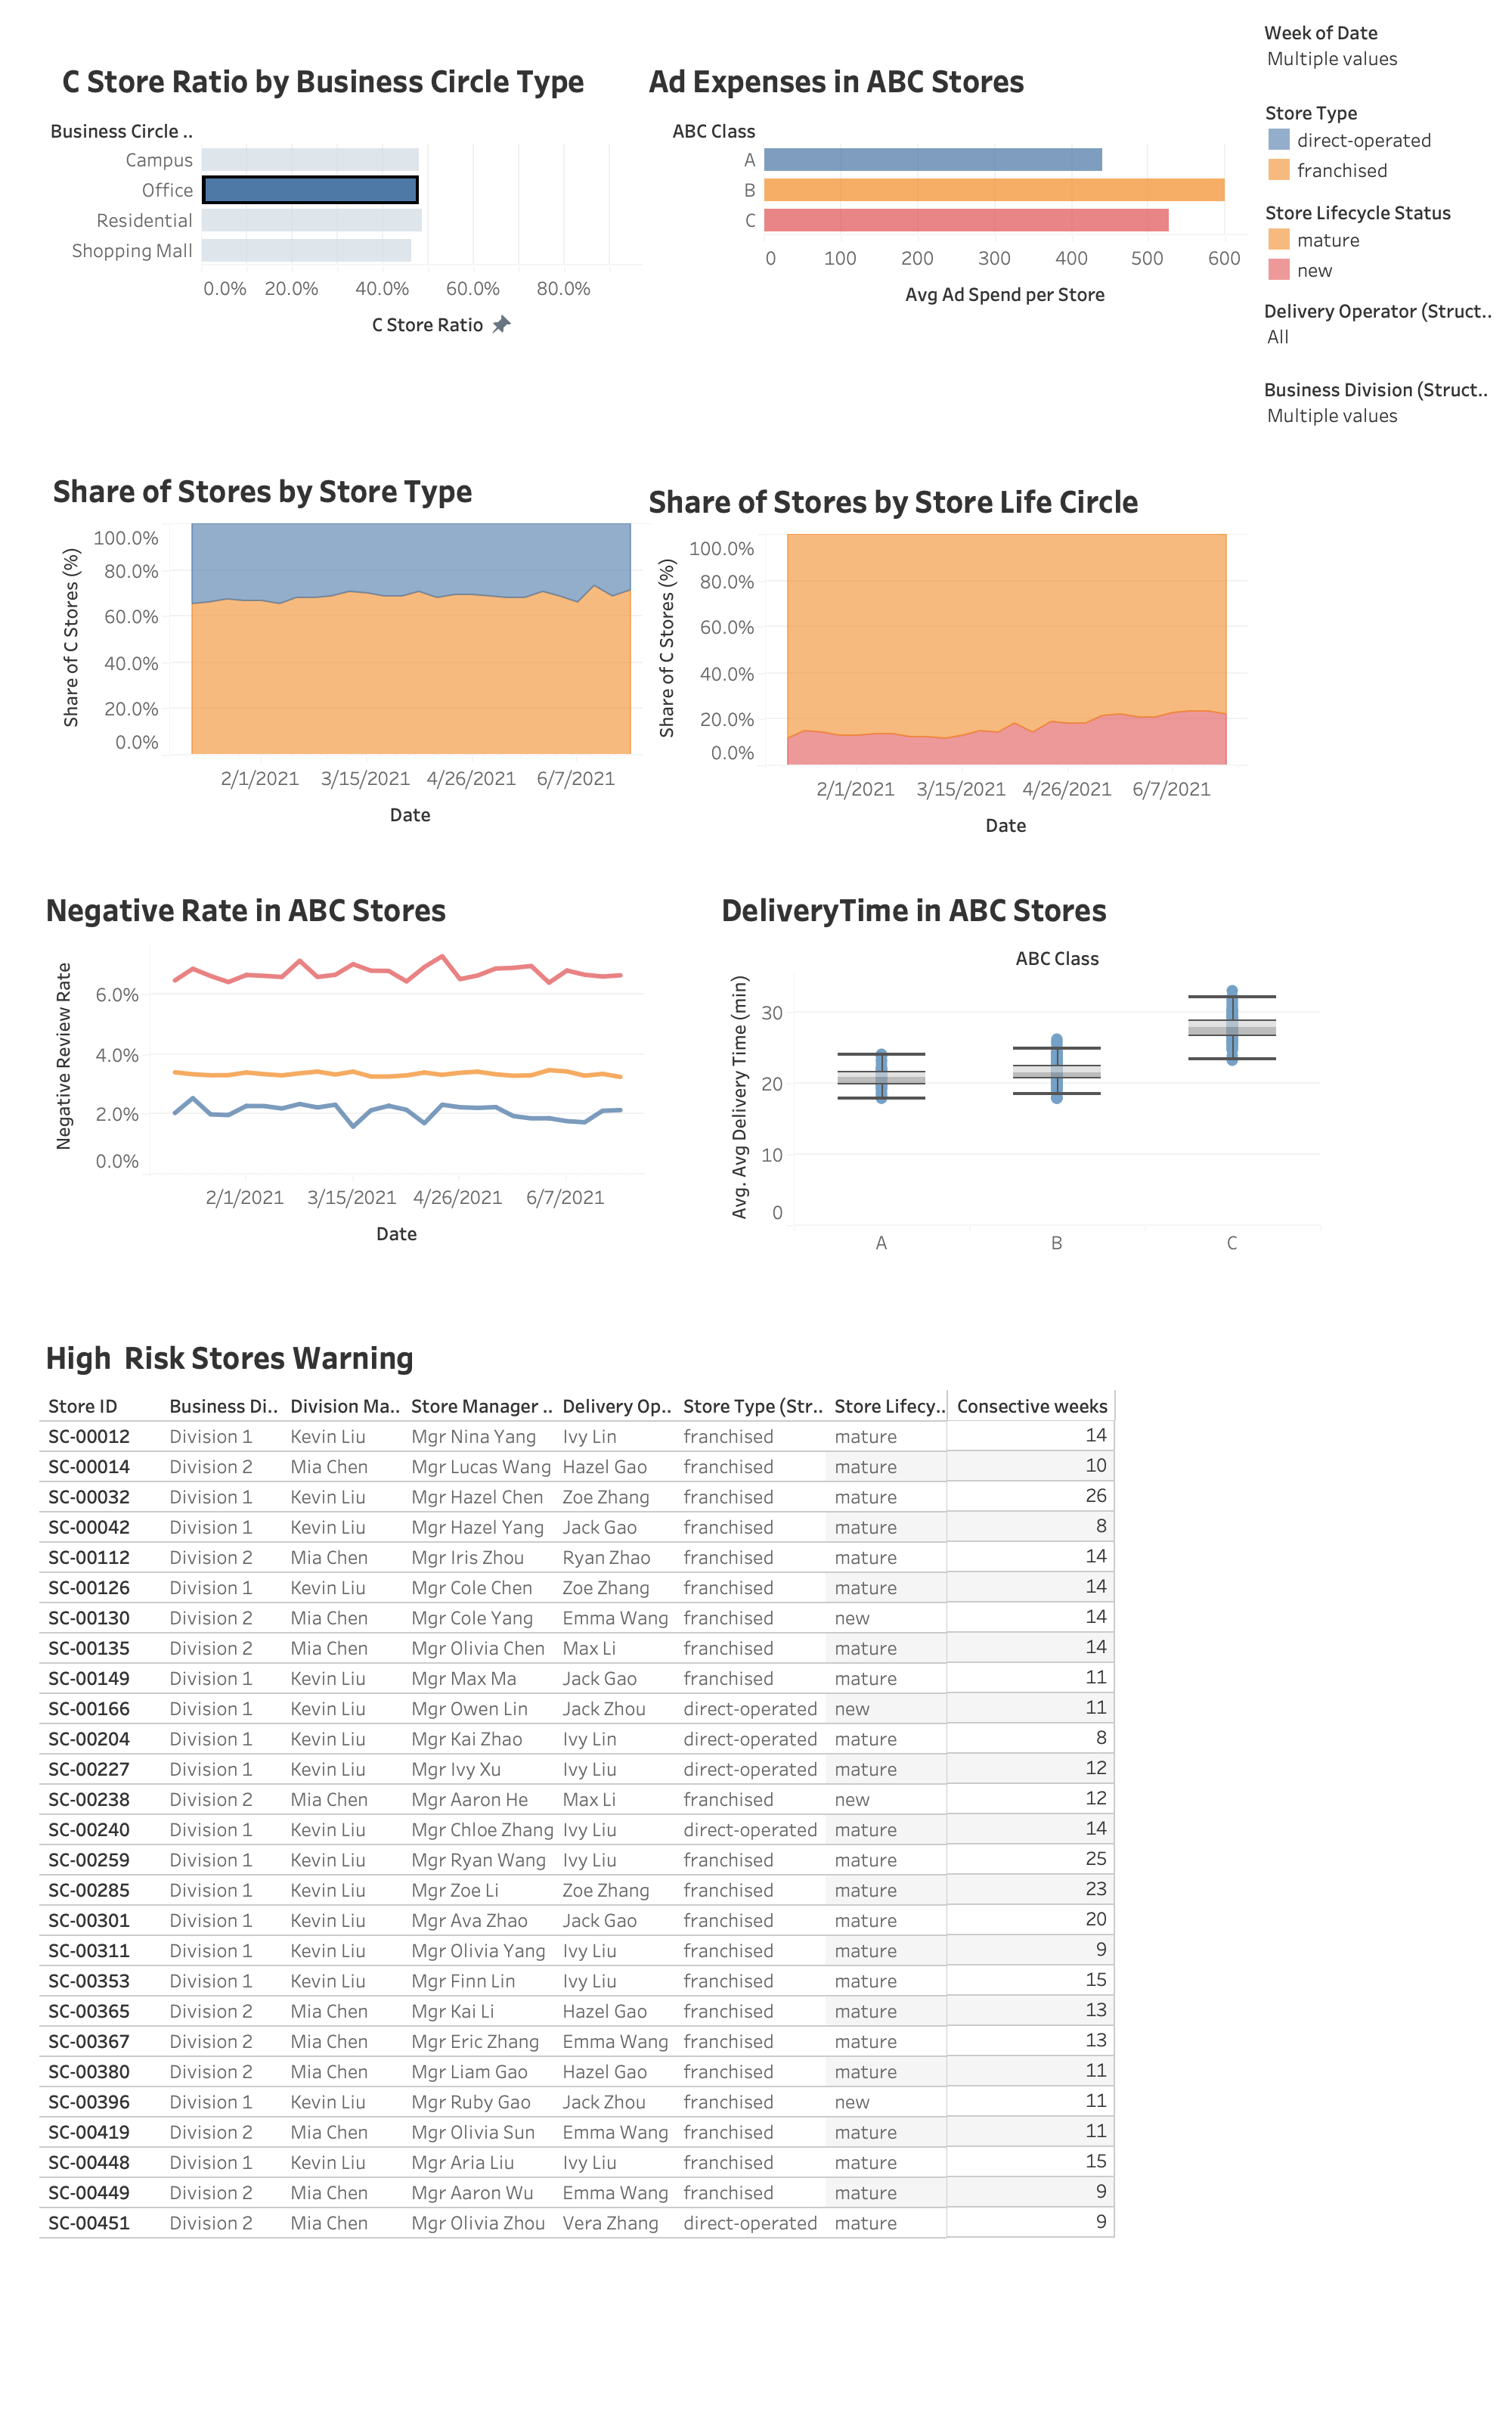

The dashboard page shown, as its layout file describes it:
{"tool":"tableau","page":{"name":"Dashboard 2","canvas":[1000,1600],"ordinal":1},"visuals":[{"type":"filter","title":" C Store Ratio by Business Circle Type","param":"[federated.0j3vi671o3qn7a1a3c1ob12r8ew7].[wk:Date:ok]","box":[832,8,160,52]},{"type":"worksheet","title":" C Store Ratio by Business Circle Type","mark":"Bar","rows":["Business Circle Type"],"cols":["Calculation_62135638809915397"],"box":[33,33,400,250]},{"type":"worksheet","title":"Ad Expenses in ABC Stores","mark":"Bar","rows":["Calculation_62135638808477696"],"cols":["Calculation_62135638904803374"],"box":[425,33,400,250]},{"type":"legend","title":"Share of Stores by Store Type","param":"[federated.0j3vi671o3qn7a1a3c1ob12r8ew7].[none:Store Type:nk]","box":[832,60,160,66]},{"type":"legend","title":"Share of Stores by Store Life Circle ","param":"[federated.0j3vi671o3qn7a1a3c1ob12r8ew7].[none:Store Lifecycle Status:nk]","box":[832,126,160,66]},{"type":"filter","title":"High  Risk Stores Warning","param":"[federated.0j3vi671o3qn7a1a3c1ob12r8ew7].[none:Delivery Operator (Structural!C!S","box":[832,192,160,52]},{"type":"filter","title":"High  Risk Stores Warning","param":"[federated.0j3vi671o3qn7a1a3c1ob12r8ew7].[none:Business Division (Structural!C!S","box":[832,244,160,52]},{"type":"worksheet","title":"Share of Stores by Store Type","mark":"Automatic","cols":["Date"],"box":[31,304,400,250]},{"type":"worksheet","title":"Share of Stores by Store Life Circle ","mark":"Automatic","cols":["Date"],"box":[425,311,400,250]},{"type":"worksheet","title":"Negative Rate in ABC Stores","mark":"Automatic","rows":["Calculation_62135638808793090"],"cols":["Date"],"box":[26,581,400,250]},{"type":"worksheet","title":"DeliveryTime in ABC Stores","mark":"Circle","rows":["Avg Delivery Time (min)"],"cols":["Calculation_62135638808477696"],"box":[473,581,400,250]},{"type":"worksheet","title":"High  Risk Stores Warning","mark":"Automatic","rows":["Store ID","Business Division (Structural!C!Stores!8W)","Division Manager (Structural!C!Stores!8W)","Store Manager (Structural!C!Stores!8W)","Delivery Operator (Structural!C!Stores!8W)","Store Type (Structural!C!Stores!8W)","Store Lifecycle Status (Structural!C!Stores!8W)"],"box":[26,877,786,684]}]}

Visuals, with their boxes in screenshot pixels (x1, y1, x2, y2), scaled from the page's 1000x1600 canvas onto the 1512x2420 screenshot:
" C Store Ratio by Business Circle Type" filter: bbox=(1258, 12, 1500, 91)
" C Store Ratio by Business Circle Type" worksheet (Bar marks): bbox=(50, 50, 655, 428)
"Ad Expenses in ABC Stores" worksheet (Bar marks): bbox=(643, 50, 1247, 428)
"Share of Stores by Store Type" legend: bbox=(1258, 91, 1500, 191)
"Share of Stores by Store Life Circle " legend: bbox=(1258, 191, 1500, 290)
"High  Risk Stores Warning" filter: bbox=(1258, 290, 1500, 369)
"High  Risk Stores Warning" filter: bbox=(1258, 369, 1500, 448)
"Share of Stores by Store Type" worksheet: bbox=(47, 460, 652, 838)
"Share of Stores by Store Life Circle " worksheet: bbox=(643, 470, 1247, 849)
"Negative Rate in ABC Stores" worksheet: bbox=(39, 879, 644, 1257)
"DeliveryTime in ABC Stores" worksheet (Circle marks): bbox=(715, 879, 1320, 1257)
"High  Risk Stores Warning" worksheet: bbox=(39, 1326, 1228, 2361)
